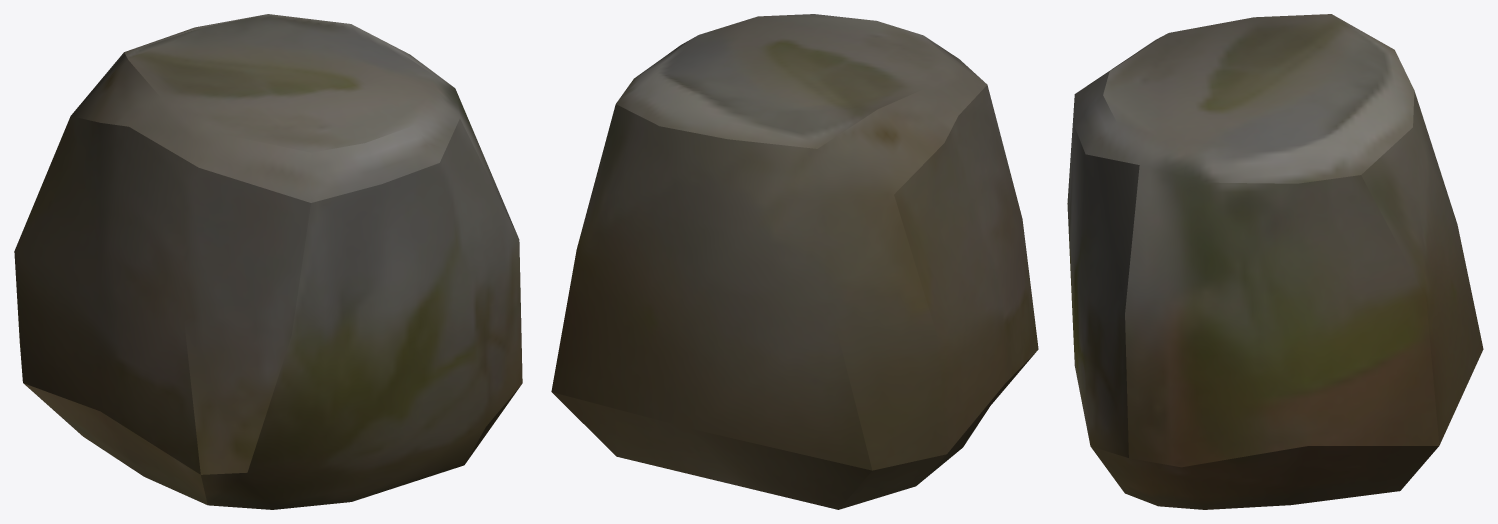
File: Stone_A_001_002.fbx
3 renders of one model, left to right at view 1: azimuth 30°, elevation 25°; view 2: azimuth 150°, elevation 25°; view 3: azimuth 270°, elevation 25°, orthographic. The views are drawn at different scales.
Visible parts, largest first — view 1: Stone_A_001_002_LOD0; view 2: Stone_A_001_002_LOD0; view 3: Stone_A_001_002_LOD0.
Boxes of the visible parts, left/top/right/bottom form: Stone_A_001_002_LOD0: left=14, top=14, right=522, bottom=509; Stone_A_001_002_LOD0: left=551, top=14, right=1038, bottom=509; Stone_A_001_002_LOD0: left=1067, top=14, right=1483, bottom=509.
Size of what is drawn, in the model's own units: 264 by 247 by 248.
1 material, 1 textured.
